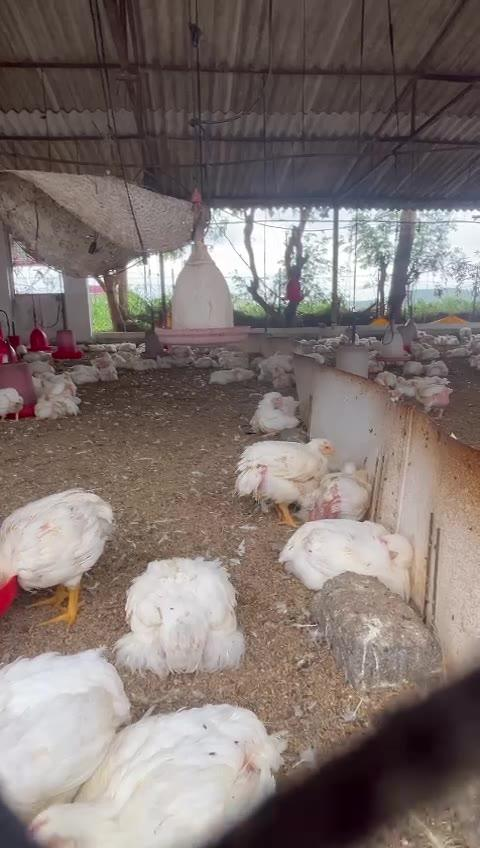AbNormal: (28, 705, 284, 848), (0, 649, 130, 813), (122, 559, 247, 672), (277, 519, 411, 609), (299, 464, 379, 524), (248, 392, 297, 436), (34, 395, 77, 416), (259, 357, 293, 382), (76, 363, 116, 382), (211, 367, 242, 382)
Normal: (0, 485, 117, 626), (233, 438, 337, 526), (411, 379, 453, 416), (0, 386, 23, 423)
